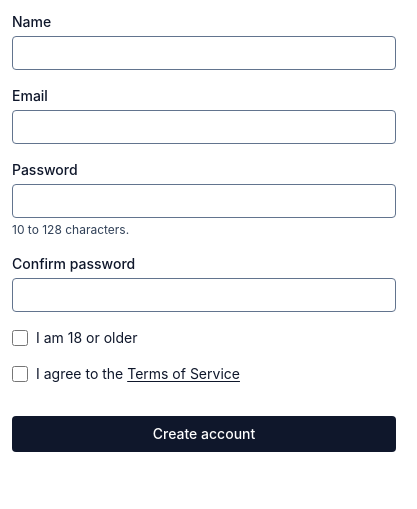
Test: SignupForm › when the server rejects with tos_version_mismatch › shows the mapped message
Type "Ada" into the field labelled "Name" at (204, 53), box [12, 36, 396, 70]
Type "ada@example.com" into the field labelled "Email" at (204, 127), box [12, 110, 396, 144]
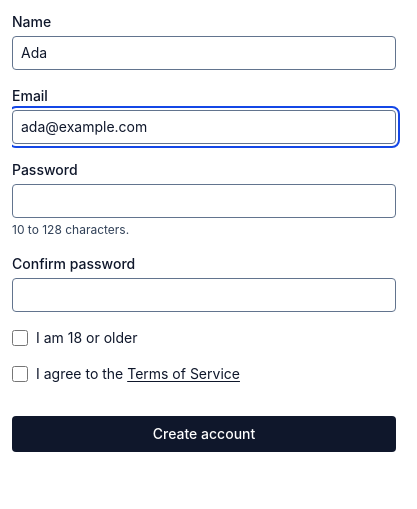
Type "longenough1" into the password field labelled "Password" at (204, 201), box [12, 184, 396, 218]
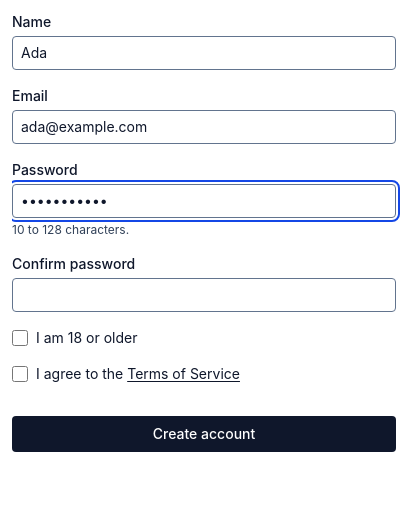
Type "longenough1" into the password field labelled "Confirm password" at (204, 295), box [12, 278, 396, 312]
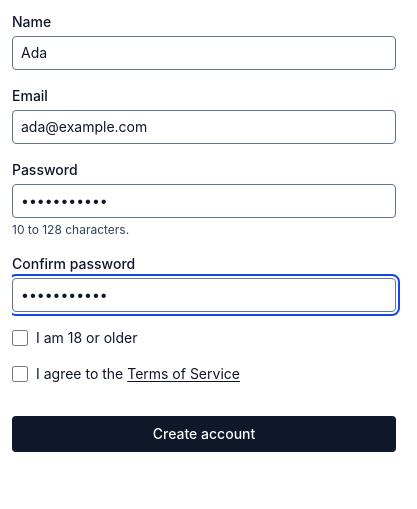
Click the checkbox labelled "I am 18 or older" at (20, 338), box [12, 330, 28, 346]
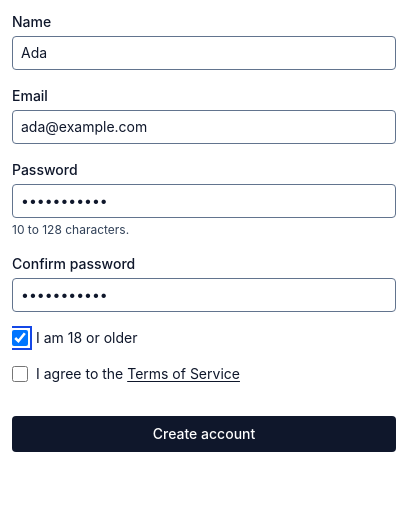
Click the checkbox labelled "I agree to the Terms of Service" at (20, 374), box [12, 366, 28, 382]
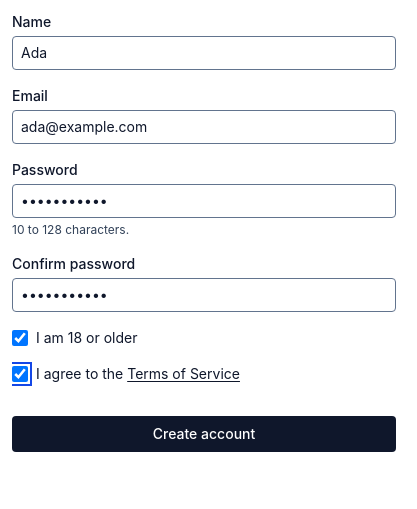
Click the button "Create account" at (204, 434), box [12, 416, 396, 452]
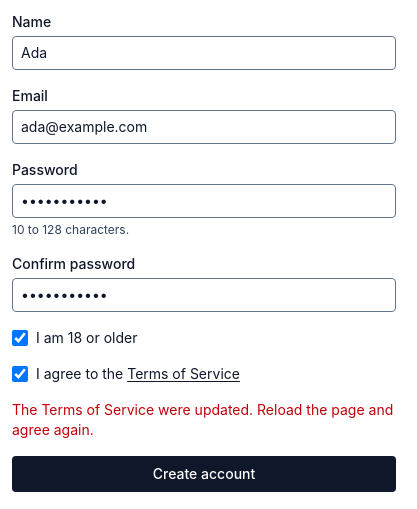
Expected: the message reads "The Terms of Service were updated. Reload the page and agree again.", [12, 401, 393, 438]
